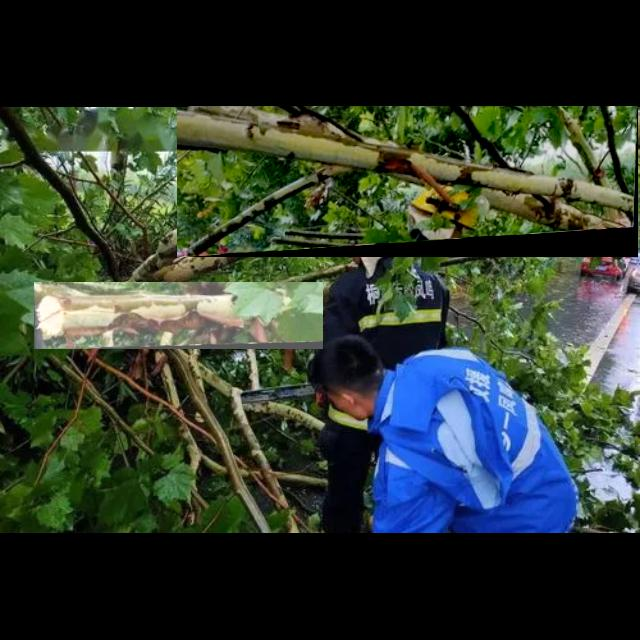Fallen Tree: (177, 106, 639, 258), (34, 282, 324, 350)
